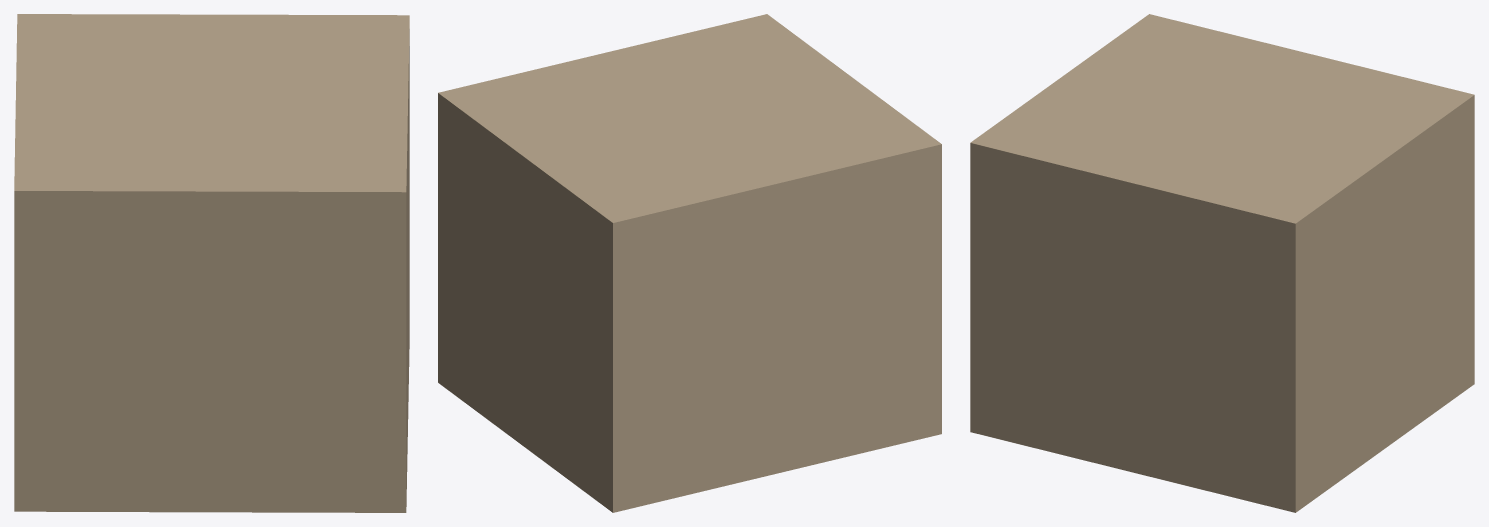
Rendered from bld_101353708.dae.
3 views of the same model, side by side, from view 1: azimuth 30°, elevation 25°; view 2: azimuth 150°, elevation 25°; view 3: azimuth 270°, elevation 25° (orthographic). The views are drawn at different scales.
Parts seen in each view (by area): view 1: bld_101353708; view 2: bld_101353708; view 3: bld_101353708.
Boxes of the visible parts, x1,y1,x2,y2 form: bld_101353708: (14,14,409,512); bld_101353708: (438,14,941,512); bld_101353708: (970,14,1474,512).
Size of the model in its own units: 12.44 by 12.65 by 8.
